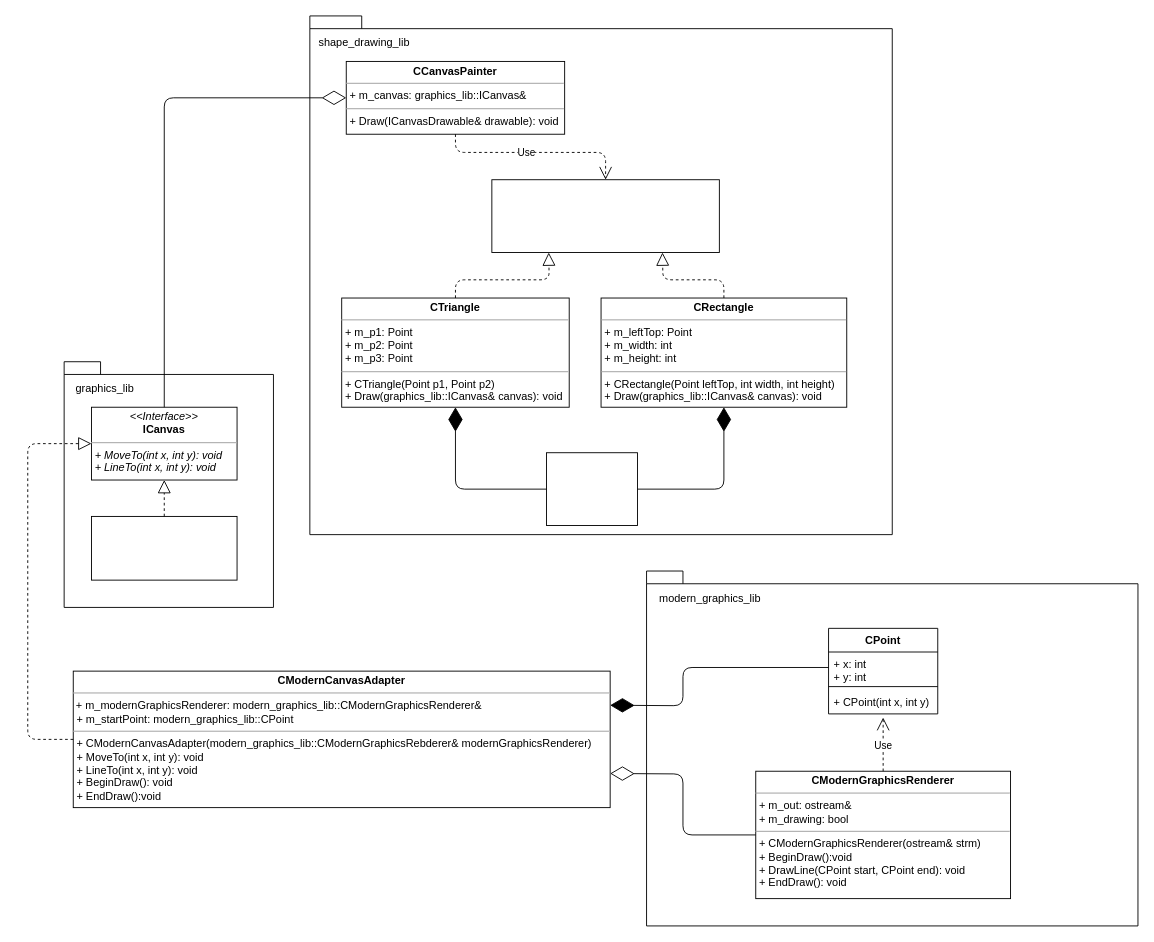
Image size: 1154x942. Some labels were removed from this diagram. The centre of each missing label's shape, as x and y in pixels:
<<Interface>> ICanvasDrawable + Draw(graphics_lib::ICanvas& canvas): void: the point at 605,216
<<struct>> Point + x: int + y: int: the point at 591,489
CCanvas + MoveTo(int x, int y): void + LineTo(int x, int y): void: the point at 164,548
